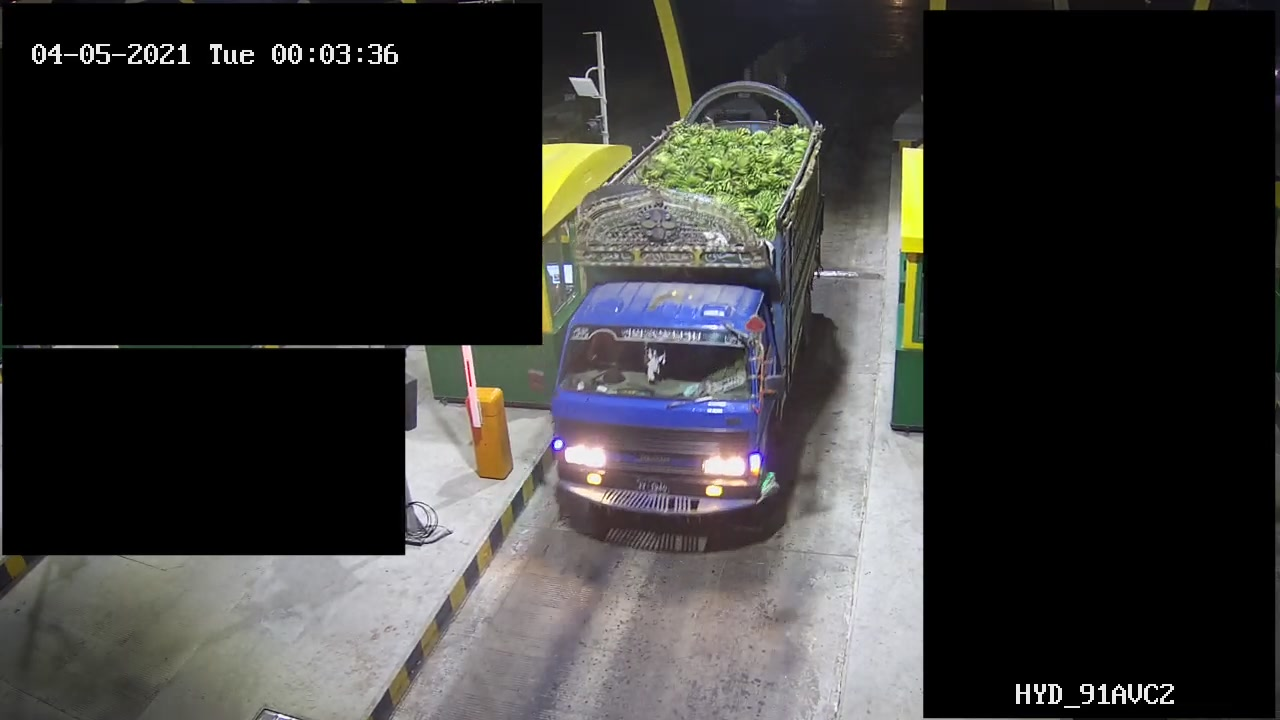F5: (543, 67, 830, 538)
